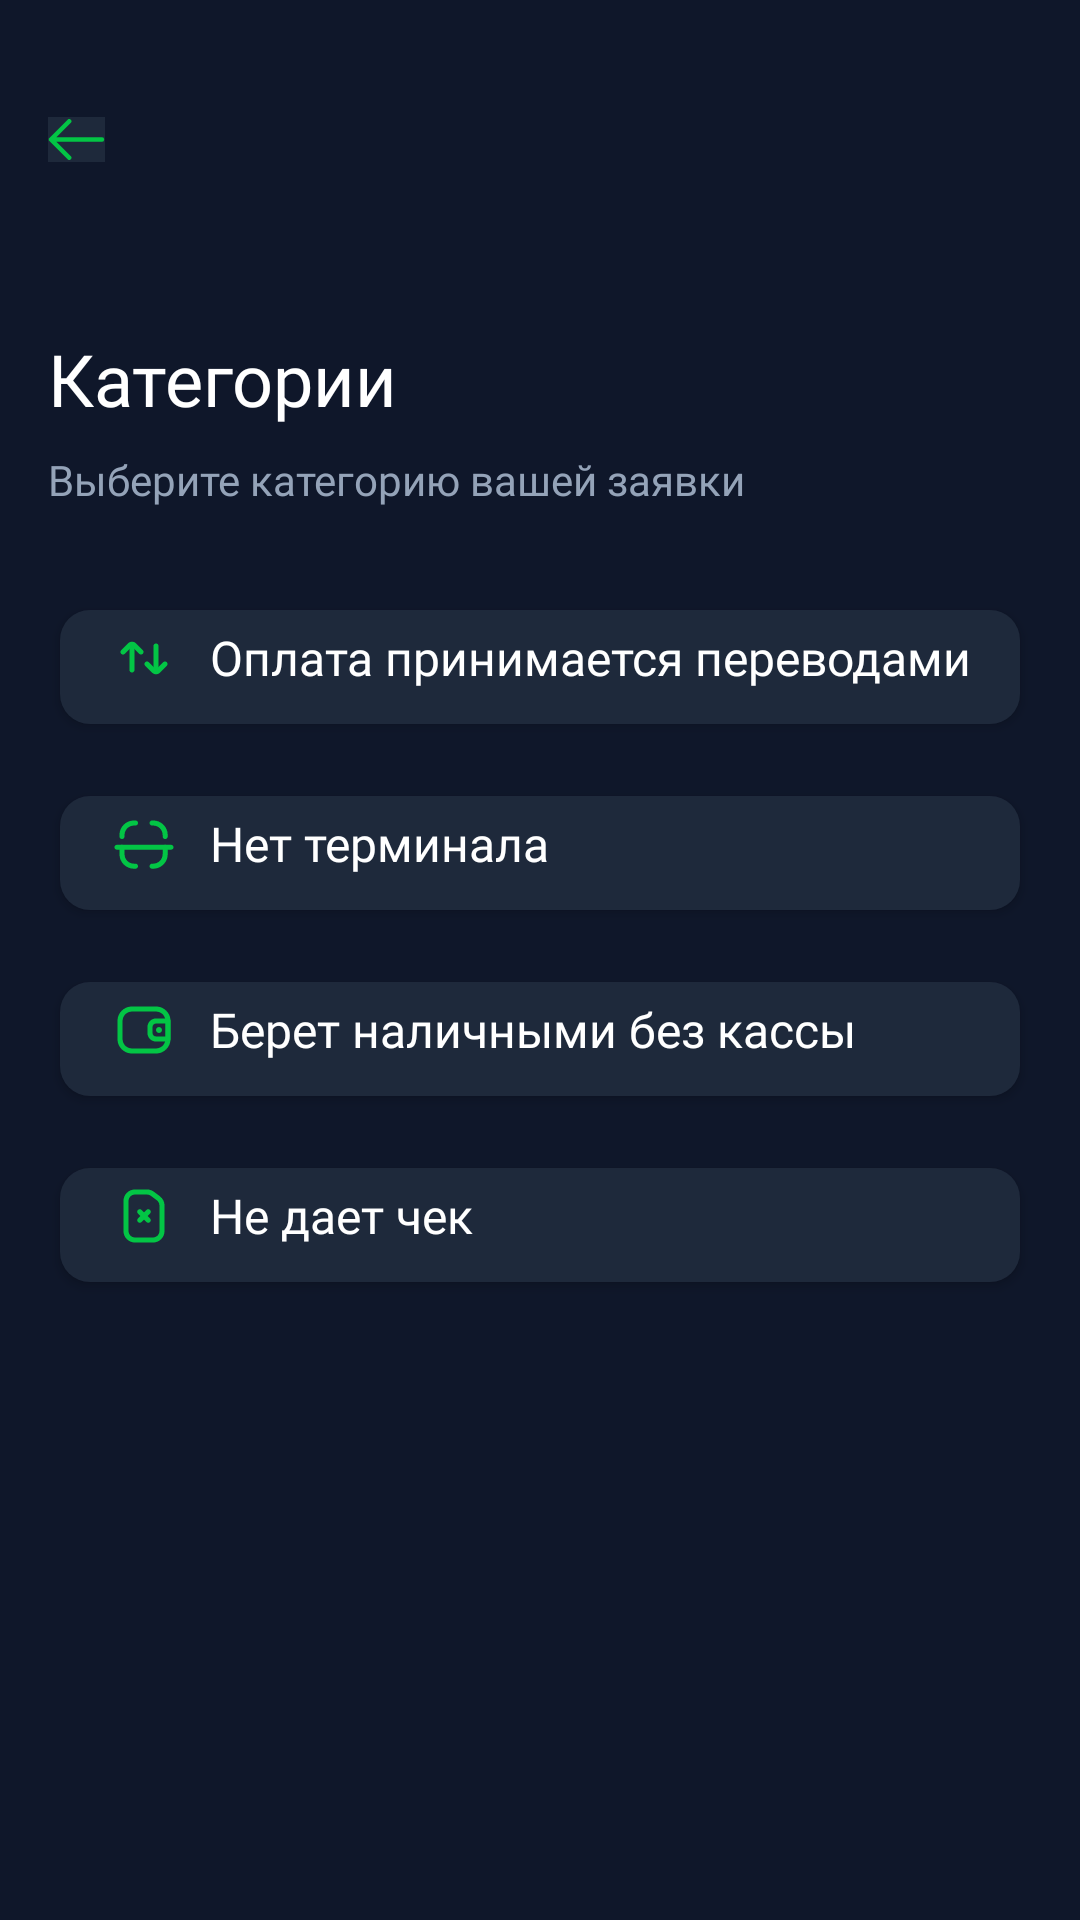

Screen size 1080x1920. Icon name, then its box in pixels as detection(x1, y1, x2, y2):
back arrow: detection(48, 117, 105, 162)
